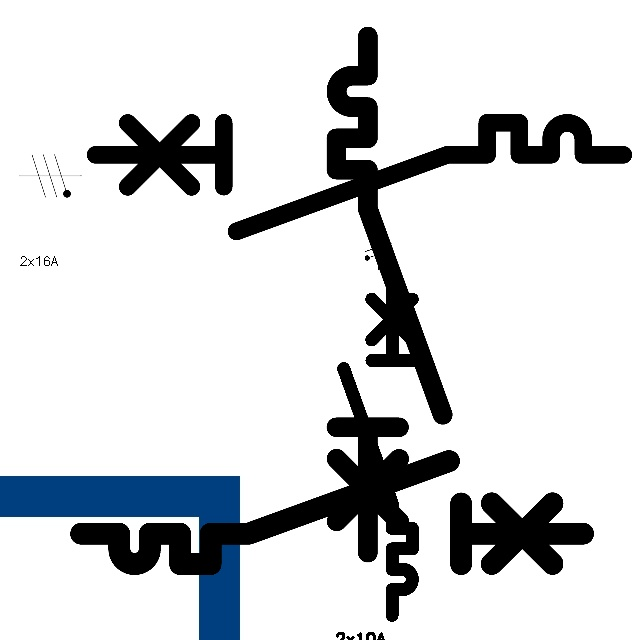interruptor_termomagnetico: (81, 109, 636, 245), (323, 23, 456, 566), (68, 448, 596, 577), (335, 270, 421, 624)
